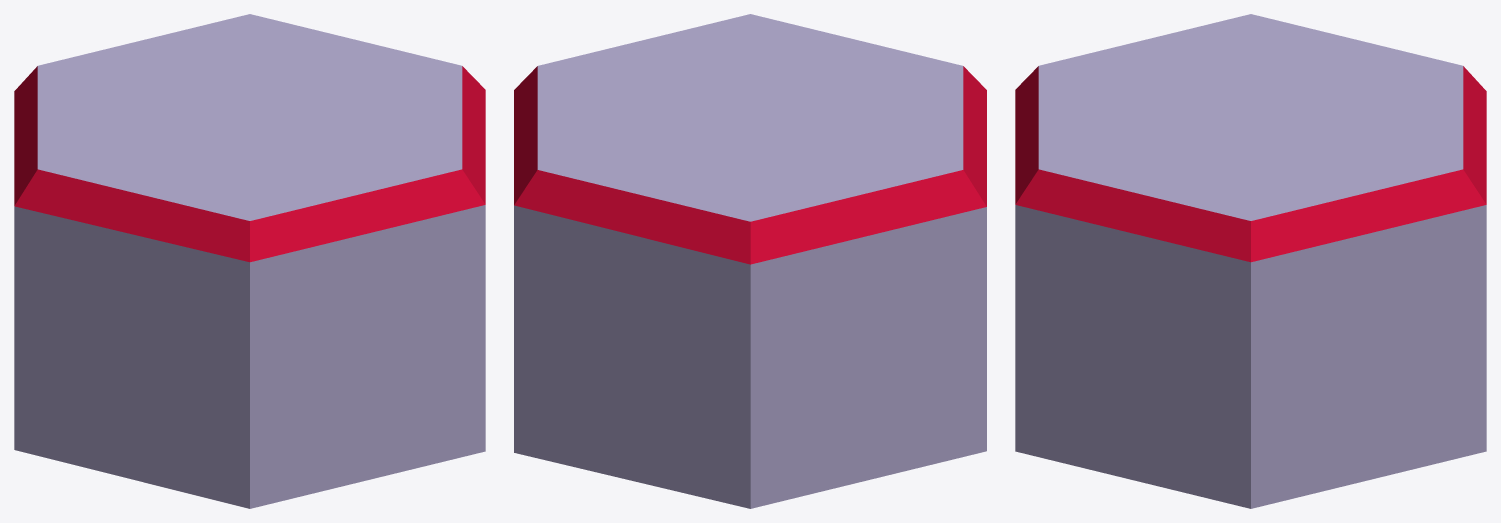
Rendered from cylinderTile.fbx.
3 renders of one model, left to right at view 1: azimuth 30°, elevation 25°; view 2: azimuth 150°, elevation 25°; view 3: azimuth 270°, elevation 25°, orthographic.
Parts seen in each view (by area): view 1: Cylinder; view 2: Cylinder; view 3: Cylinder.
Part boxes in pixels (x1,y1,x2,y2): Cylinder: [14, 14, 485, 508]; Cylinder: [514, 14, 986, 508]; Cylinder: [1015, 14, 1486, 508].
Bounding box in the file's own units: 200 × 112 × 173.
